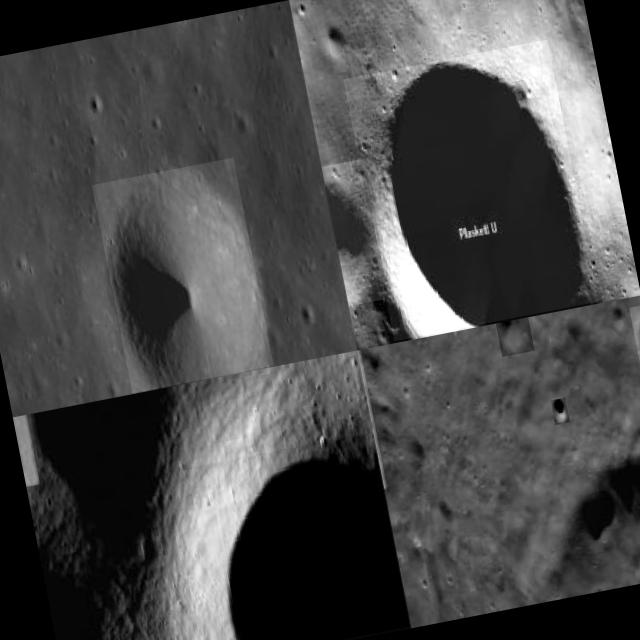crater: (344, 40, 598, 342), (184, 432, 410, 640), (92, 158, 274, 393), (516, 443, 640, 601), (322, 160, 386, 306), (496, 317, 535, 357), (629, 305, 640, 406), (550, 398, 570, 425)
